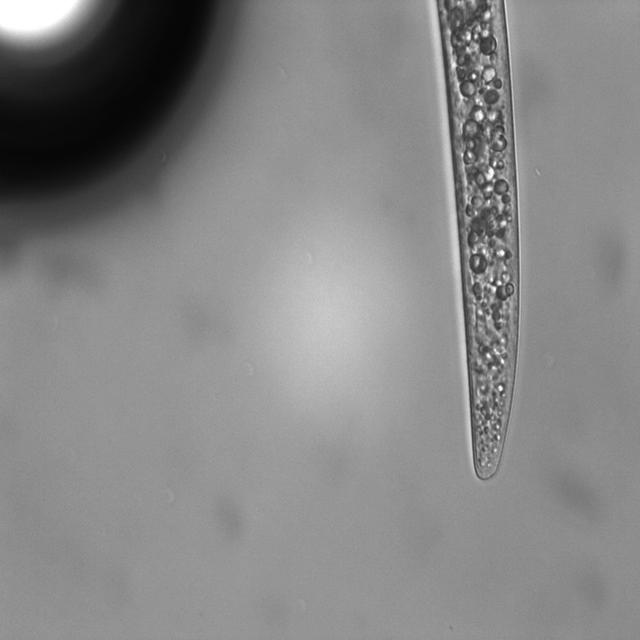Pratylenchus: (423, 0, 526, 491)
